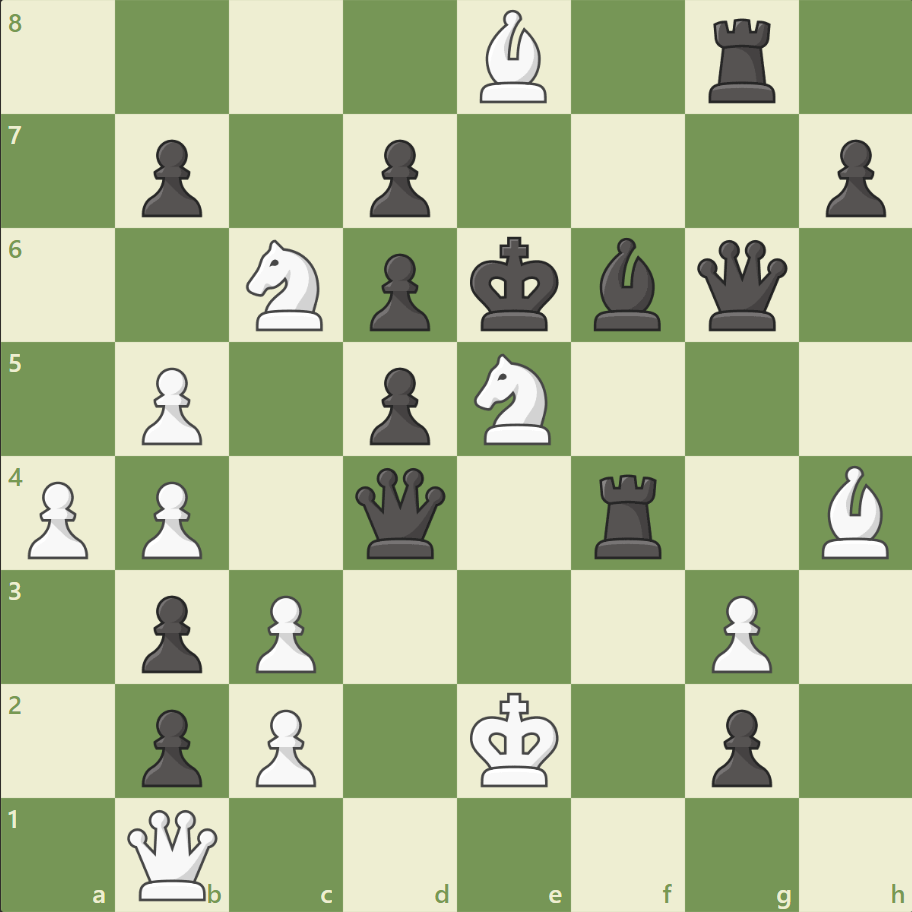B: (471, 6, 555, 109), (812, 460, 896, 563)
K: (465, 685, 565, 793)
N: (238, 234, 335, 337), (465, 348, 562, 450)
P: (133, 359, 208, 450), (20, 473, 95, 564), (133, 473, 208, 564), (247, 586, 322, 677), (701, 586, 776, 677), (247, 700, 322, 791)
Q: (124, 804, 223, 903)
b: (585, 233, 669, 336)
k: (465, 231, 565, 339)
p: (133, 132, 208, 223), (133, 586, 208, 677), (133, 700, 208, 791), (701, 700, 776, 791), (361, 132, 435, 223), (815, 132, 889, 223), (361, 246, 435, 337), (361, 359, 435, 450)
q: (691, 236, 790, 335), (351, 463, 450, 562)
r: (700, 12, 783, 109), (587, 466, 670, 563)
